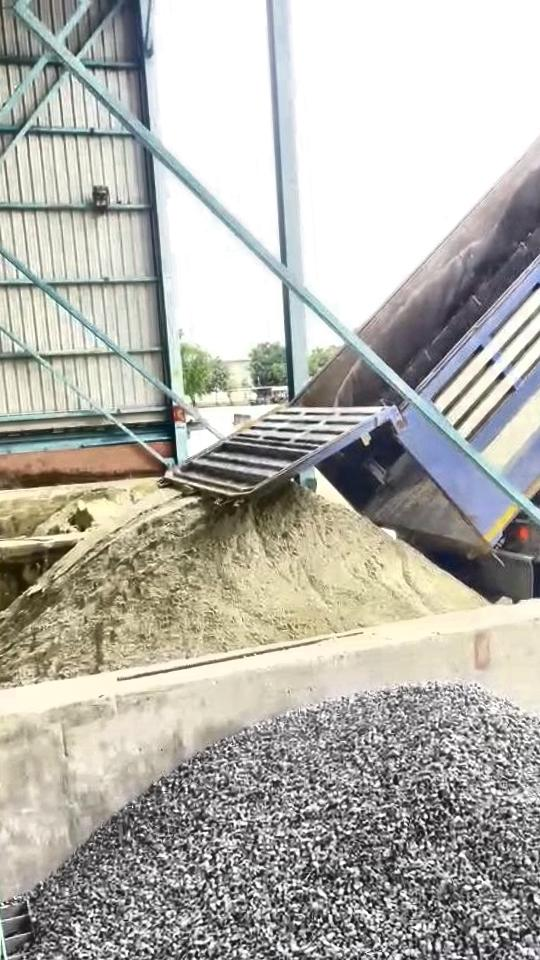gravel: (13, 684, 540, 960)
sand: (0, 484, 484, 688), (36, 486, 149, 535)
